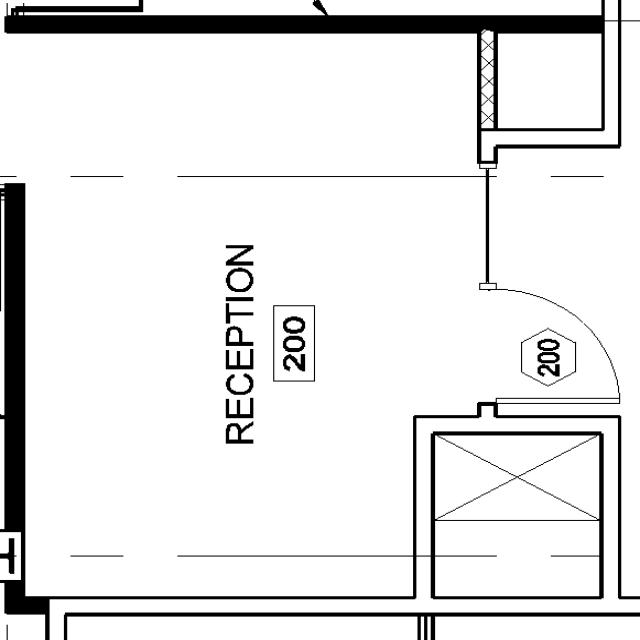Doors: (458, 276, 630, 411)
